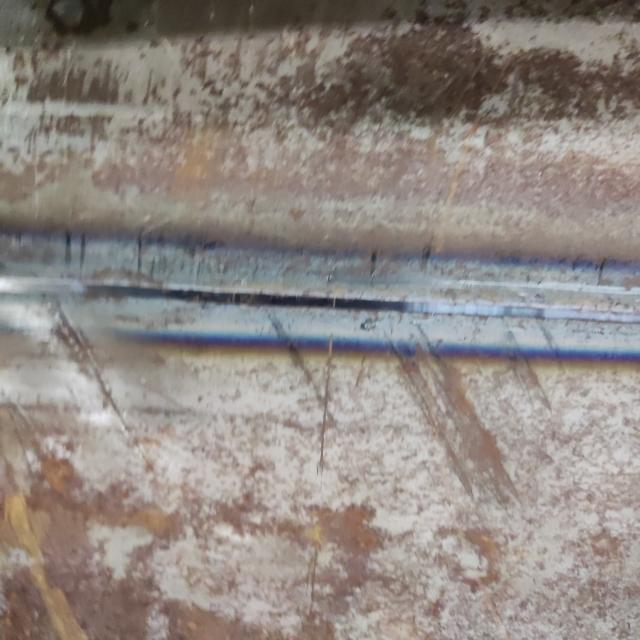seam: (0, 200, 640, 389)
